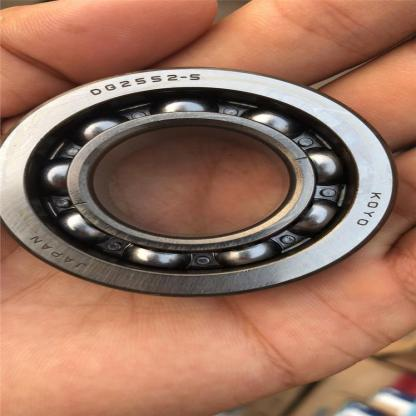FOD: (0, 64, 401, 298)
